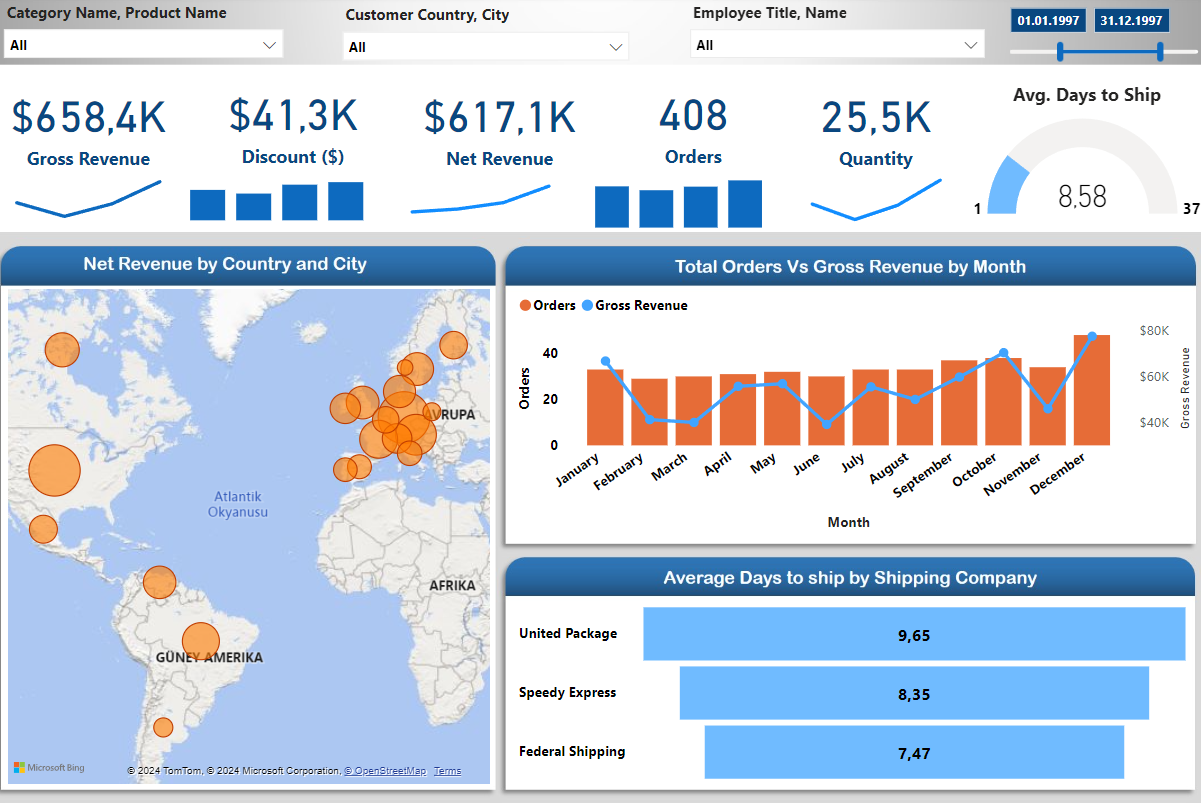

The page's visual inventory and layout, read from the dashboard file:
{"tool":"powerbi","page":{"name":"Dashboard","canvas":[1280,720],"ordinal":1},"visuals":[{"type":"slicer","fields":{"Values":["Order_Details.OrderDate"]},"box":[1086.5,0,192.9,68.6],"z":0},{"type":"card","fields":{"Values":["Sum(Order_Details.Quantity)"]},"box":[901.4,69,155.9,90.7],"z":1000},{"type":"card","fields":{"Values":["Sum(Order_Details.Sales Amount)"]},"box":[192.8,69,171.5,90.7],"z":2000},{"type":"lineChart","fields":{"Y":["Sum(Order_Details.Quantity)"],"Category":["Order_Details.Order Date.Variation.Date Hierarchy.Quarter"]},"box":[192.8,146,171.5,60.9],"z":3000},{"type":"clusteredColumnChart","fields":{"Y":["Sum(Order_Details.Discount ($))"],"Category":["Order_Details.Order Date.Variation.Date Hierarchy.Quarter"]},"box":[364.3,143.1,165.8,62.4],"z":4000},{"type":"card","fields":{"Values":["Sum(Order_Details.Discount ($))"]},"box":[368.5,69,184.3,87.9],"z":5000},{"type":"card","fields":{"Values":["Sum(Order_Details.Net Revenue)"]},"box":[557,69,175.7,90.7],"z":6000},{"type":"lineChart","fields":{"Y":["Sum(Order_Details.Net Revenue)"],"Category":["Order_Details.Order Date.Variation.Date Hierarchy.Quarter"]},"box":[545.7,146,164.4,62.4],"z":7000},{"type":"lineChart","fields":{"Y":["Sum(Order_Details.Quantity)"],"Category":["Order_Details.Order Date.Variation.Date Hierarchy.Quarter"]},"box":[902.8,143.1,154.5,66.6],"z":8000},{"type":"funnel","fields":{"Category":["Order_Details.Shipping Company"],"Y":["Avg(Order_Details.Days to Ship)"]},"box":[656.5,534.4,608.7,173.2],"z":9000},{"type":"map","fields":{"Category":["Order_Details.Country","Order_Details.City"],"Size":["Sum(Order_Details.Net Revenue)"]},"box":[202,256.4,439,450.6],"z":10000},{"type":"clusteredColumnChart","fields":{"Y":["Sum(Order_Details.Quantity)"],"Category":["Order_Details.Order Date.Variation.Date Hierarchy.Quarter"]},"box":[724.3,146,160.2,66.6],"z":11000},{"type":"card","fields":{"Values":["Order_Details.Total Orders"]},"box":[737,69,160.2,87.9],"z":12000},{"type":"gauge","title":"Avg. Days to Ship","fields":{"Y":["Avg(Order_Details.Days to Ship)"],"MinValue":["Min(Order_Details.Days to Ship)"],"MaxValue":["Max(Order_Details.Days to Ship)1"]},"box":[1056.1,75.2,222.2,135.4],"z":13000},{"type":"slicer","fields":{"Values":["Products.CategoryName","Products.ProductName"]},"box":[192.2,0,269,68.5],"z":14000},{"type":"slicer","fields":{"Values":["Order_Details.Country","Order_Details.City"]},"box":[494.6,1.7,275.7,68.5],"z":15000},{"type":"slicer","fields":{"Values":["Order_Details.Title","Order_Details.FirstName"]},"box":[803.8,0,282.4,68.5],"z":16000},{"type":"actionButton","box":[0,214,192.8,39.7],"z":17000},{"type":"lineClusteredColumnComboChart","fields":{"Category":["Order_Details.Order Date.Variation.Date Hierarchy.Month"],"Y":["Order_Details.Orders"],"Y2":["Sum(Order_Details.Gross Revenue)"]},"box":[656.2,256.5,609.4,225.4],"z":18000},{"type":"actionButton","box":[0,284.9,192.8,39.7],"z":19000},{"type":"image","box":[48.3,0,96.5,68.8],"z":20000},{"type":"textbox","box":[0,658.7,193,41],"z":21000}]}

Visuals, with their boxes on the page's 1280x720 design canvas (x1, y1, x2, y2). These are canvas units, not pixel positions in the 1201x803 screenshot, which may show the page scaled, cropped or inside an application window:
slicer - Order_Details.OrderDate: Rect(1086, 0, 1279, 69)
card - Sum(Order_Details.Quantity): Rect(901, 69, 1057, 160)
card - Sum(Order_Details.Sales Amount): Rect(193, 69, 364, 160)
lineChart - Sum(Order_Details.Quantity) x Order_Details.Order Date.Variation.Date Hierarchy.Quarter: Rect(193, 146, 364, 207)
clusteredColumnChart - Sum(Order_Details.Discount ($)) x Order_Details.Order Date.Variation.Date Hierarchy.Quarter: Rect(364, 143, 530, 206)
card - Sum(Order_Details.Discount ($)): Rect(368, 69, 553, 157)
card - Sum(Order_Details.Net Revenue): Rect(557, 69, 733, 160)
lineChart - Sum(Order_Details.Net Revenue) x Order_Details.Order Date.Variation.Date Hierarchy.Quarter: Rect(546, 146, 710, 208)
lineChart - Sum(Order_Details.Quantity) x Order_Details.Order Date.Variation.Date Hierarchy.Quarter: Rect(903, 143, 1057, 210)
funnel - Order_Details.Shipping Company x Avg(Order_Details.Days to Ship): Rect(656, 534, 1265, 708)
map - Order_Details.Country x Order_Details.City: Rect(202, 256, 641, 707)
clusteredColumnChart - Sum(Order_Details.Quantity) x Order_Details.Order Date.Variation.Date Hierarchy.Quarter: Rect(724, 146, 884, 213)
card - Order_Details.Total Orders: Rect(737, 69, 897, 157)
"Avg. Days to Ship" gauge: Rect(1056, 75, 1278, 211)
slicer - Products.CategoryName x Products.ProductName: Rect(192, 0, 461, 68)
slicer - Order_Details.Country x Order_Details.City: Rect(495, 2, 770, 70)
slicer - Order_Details.Title x Order_Details.FirstName: Rect(804, 0, 1086, 68)
actionButton: Rect(0, 214, 193, 254)
lineClusteredColumnComboChart - Order_Details.Order Date.Variation.Date Hierarchy.Month x Order_Details.Orders: Rect(656, 256, 1266, 482)
actionButton: Rect(0, 285, 193, 325)
image: Rect(48, 0, 145, 69)
textbox: Rect(0, 659, 193, 700)
